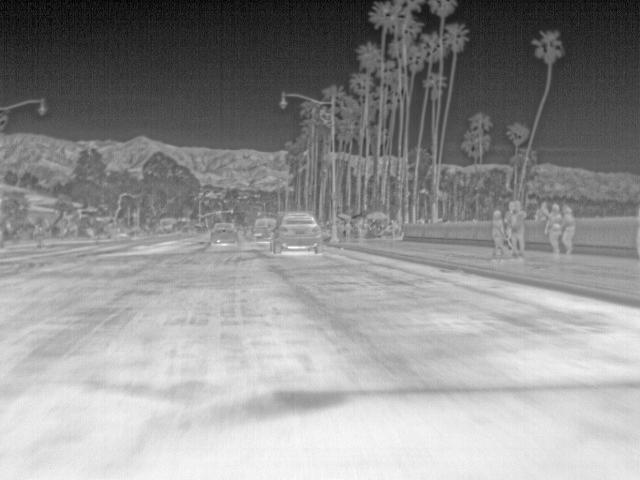car: (272, 211, 322, 250), (210, 222, 240, 245), (252, 218, 276, 240), (156, 215, 178, 234)
person: (545, 202, 565, 258), (508, 200, 526, 256), (490, 209, 510, 259), (560, 206, 575, 257), (533, 201, 551, 221)
